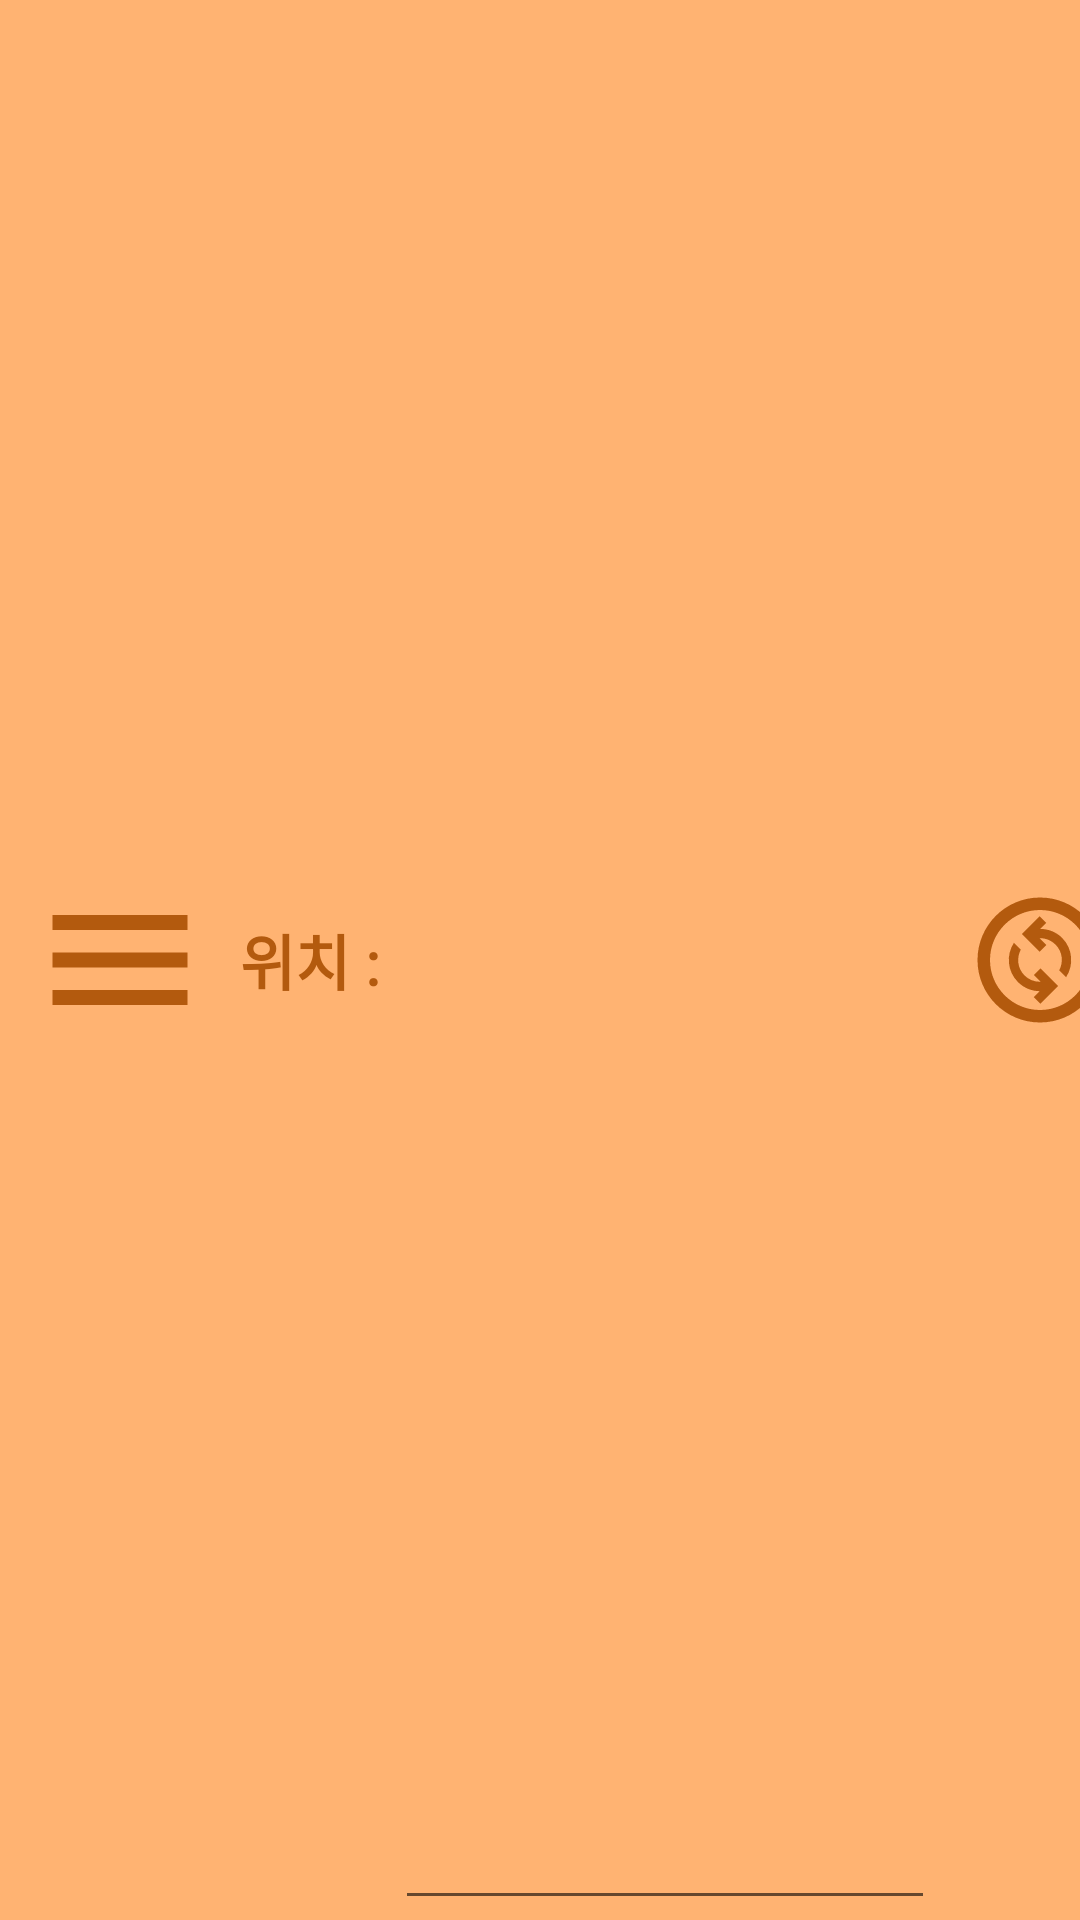

Icons on this 1080w x 1920h Android screen, each with its box as (x1, y1, x2, y2):
menu: (52, 915, 188, 1005)
